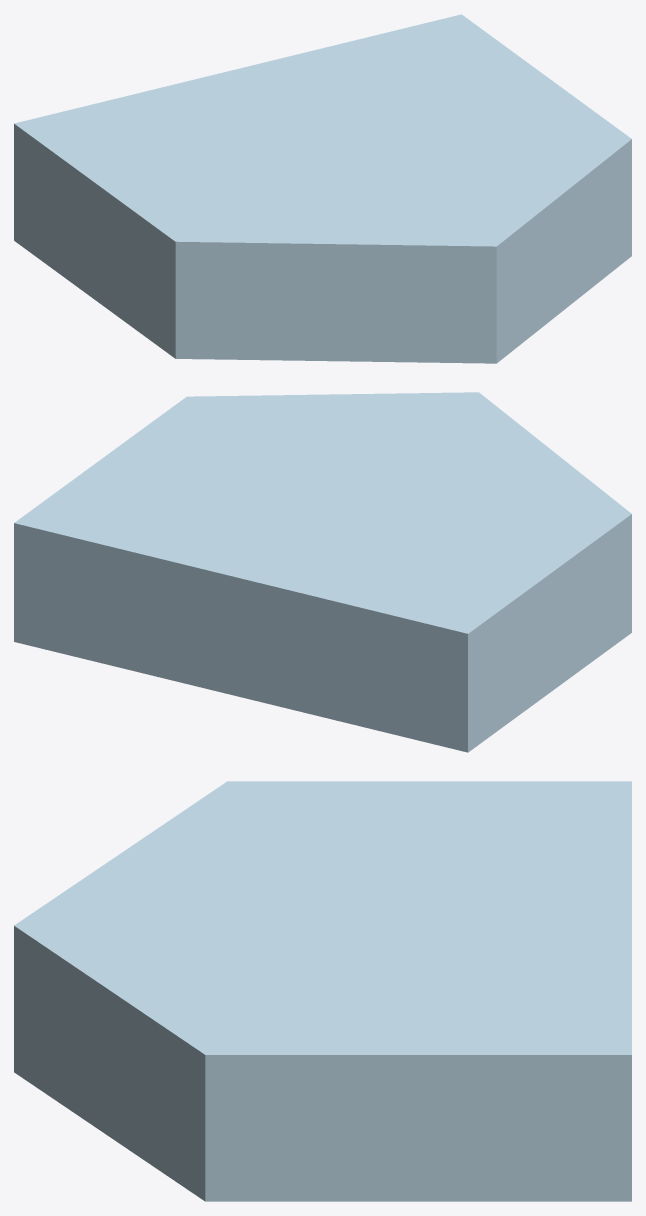
File: endwall_1.glb
3 views of the same model, one above another, from view 1: azimuth 30°, elevation 25°; view 2: azimuth 150°, elevation 25°; view 3: azimuth 270°, elevation 25° (orthographic). The views are drawn at different scales.
Visible parts, largest first — view 1: endwall; view 2: endwall; view 3: endwall.
Boxes of the visible parts, box(x1,y1,x2,y2) form: endwall: box(14, 14, 631, 363); endwall: box(14, 392, 631, 752); endwall: box(14, 781, 631, 1201).
Bounding box in the file's own units: 4.8 × 1.2 × 4.58.
